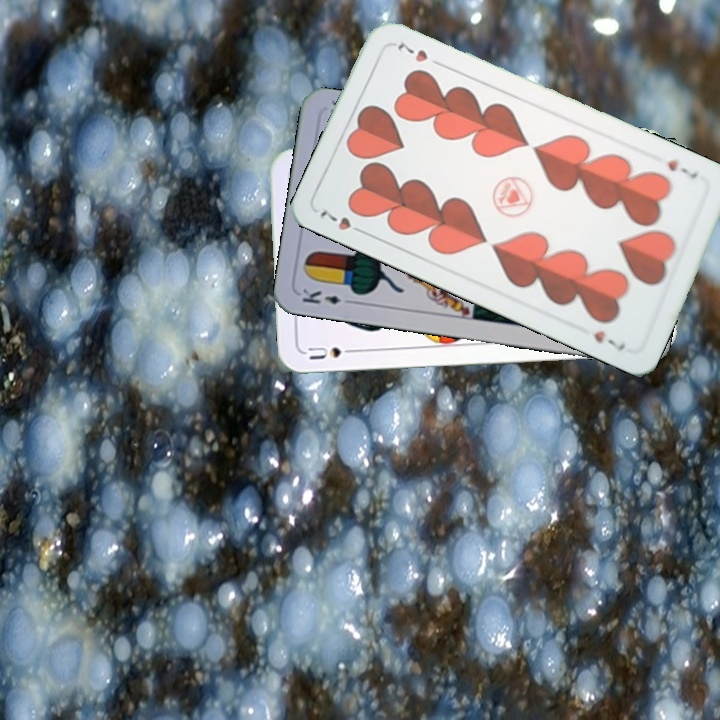EK: (298, 285, 357, 307)
H7: (315, 205, 370, 238), (663, 155, 700, 182)
SU: (304, 342, 361, 362)
